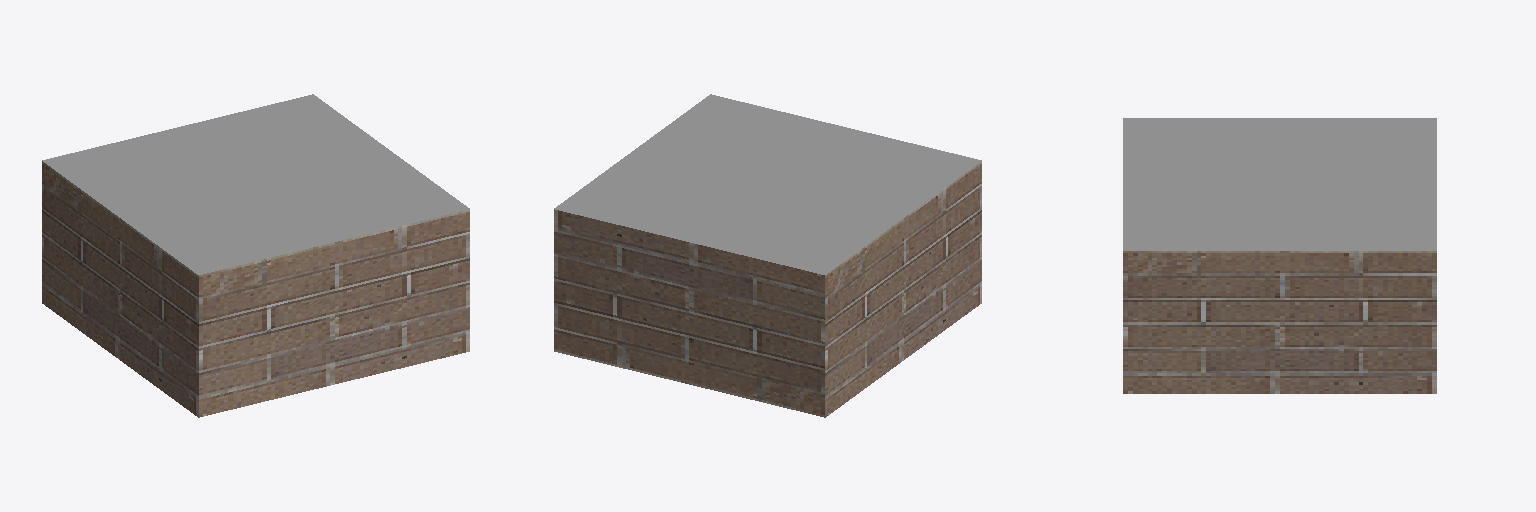
3 renders of one model, left to right at view 1: azimuth 30°, elevation 25°; view 2: azimuth 150°, elevation 25°; view 3: azimuth 270°, elevation 25°, orthographic.
Parts seen in each view (by area): view 1: Cube; view 2: Cube; view 3: Cube.
Boxes of the visible parts, box(x1,y1,x2,y2) form: Cube: box(42, 94, 469, 417); Cube: box(554, 94, 981, 417); Cube: box(1123, 118, 1436, 393).
Size of the model in its own units: 2 by 1 by 2.
Materials: 2 (1 with a texture image).